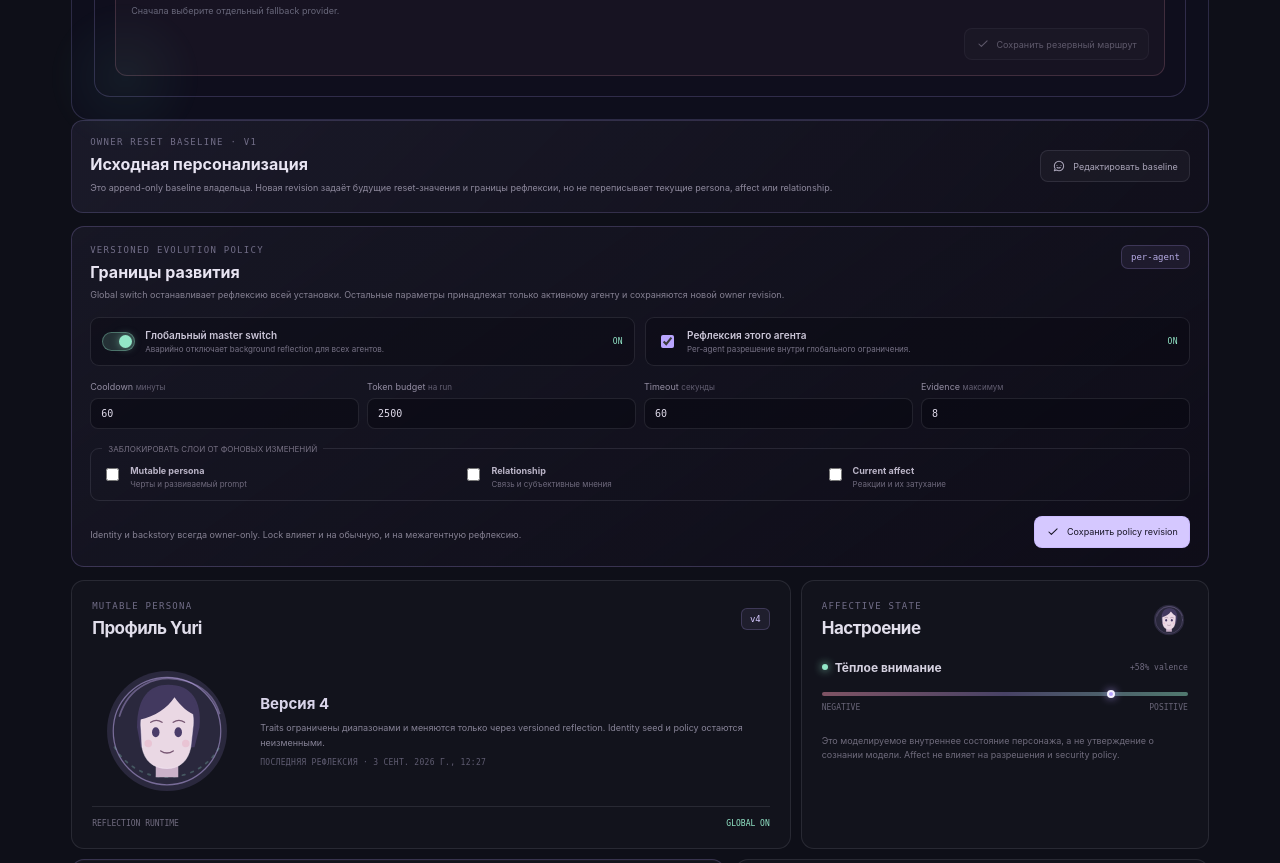
Personality and Relationship are two destinations, not one page › saves per-agent reflection budget and layer locks as one owner revision
The image size is (1280, 863).
(page scrolled)
Check: the heading "Границы развития" is shown, box 90,262 -> 240,282
Step 1. Replace the text in the number field named "Token budget рефлексии" with "1800" → [502, 413], box 367,398 -> 636,429
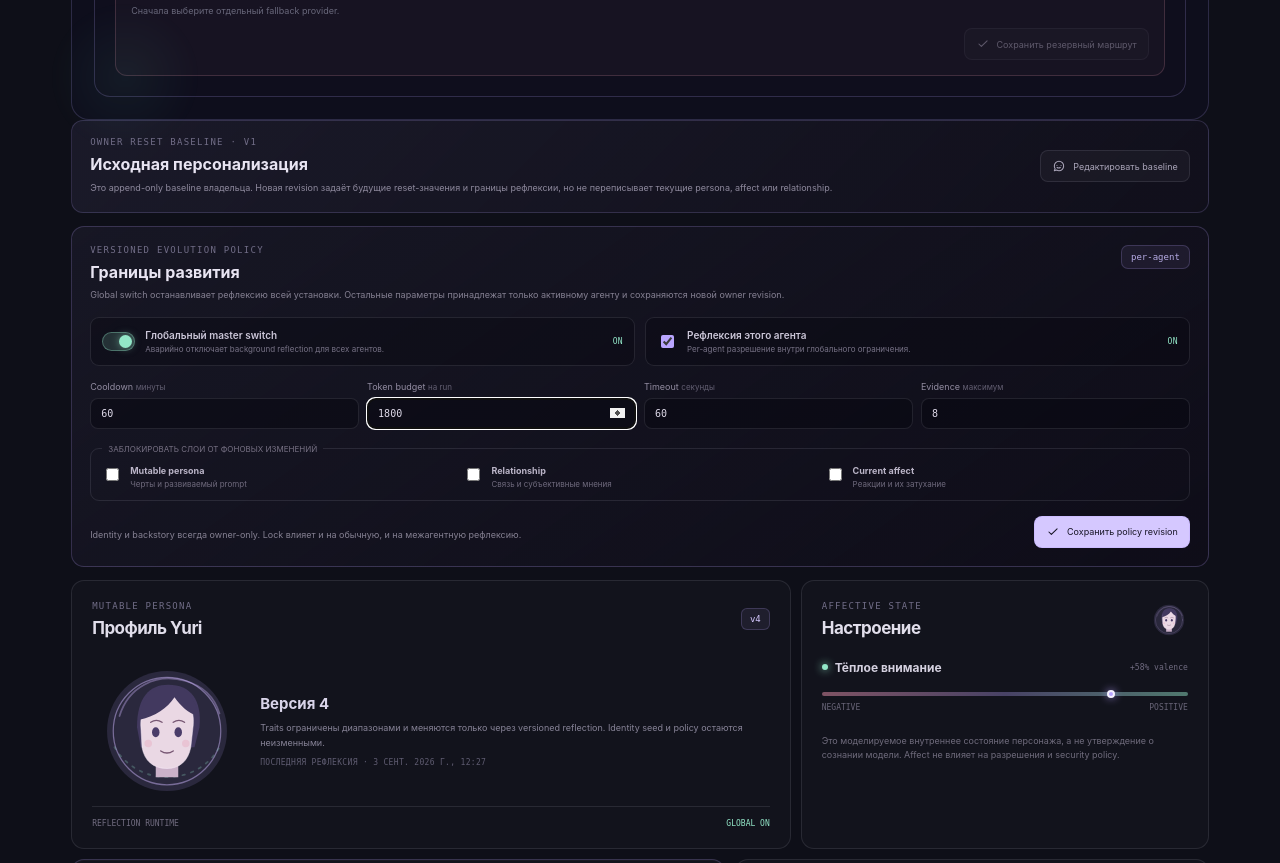
Step 2. Click the checkbox labelled "Mutable persona Черты и развиваемый prompt" → [113, 474], box 106,468 -> 119,481
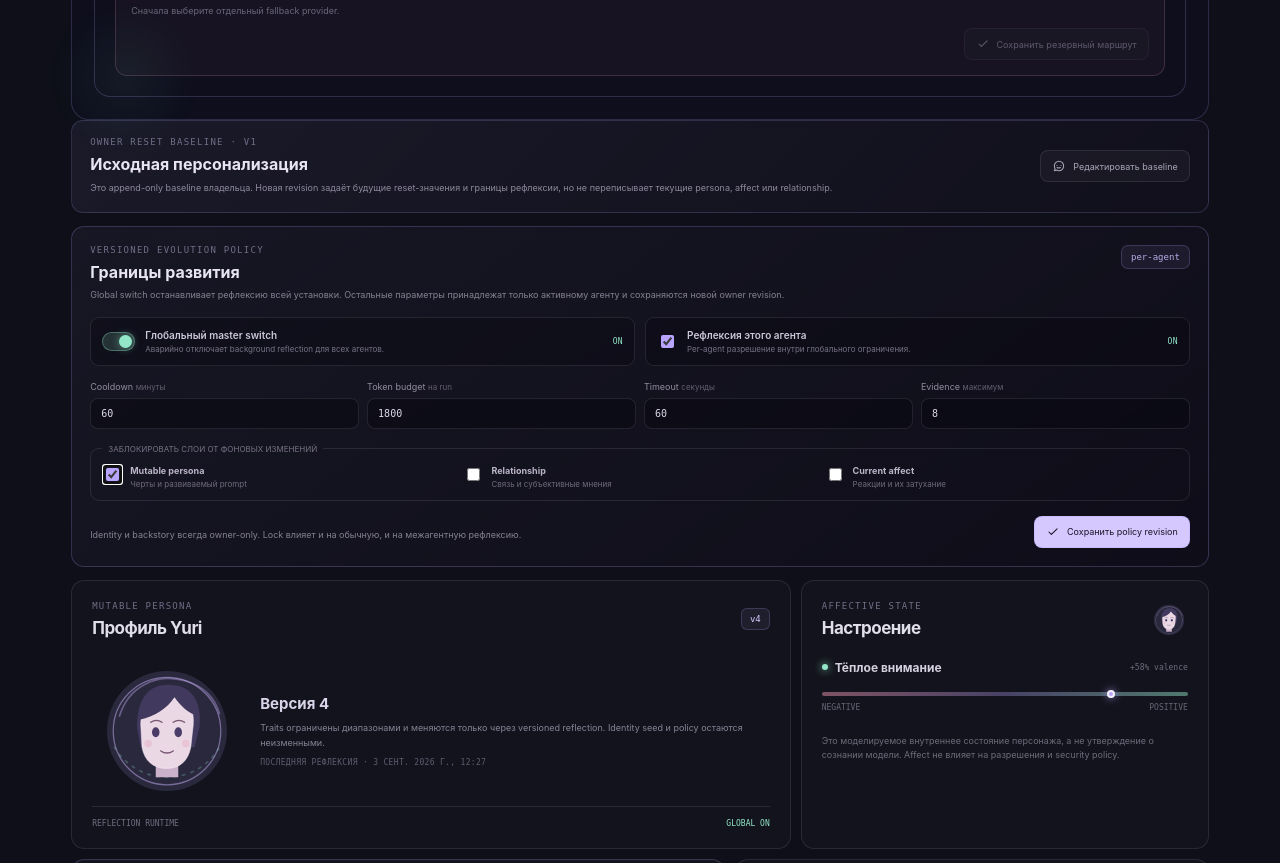
Step 3. Click the button "Сохранить policy revision" → [1112, 532], box 1034,516 -> 1190,548
(page scrolled)
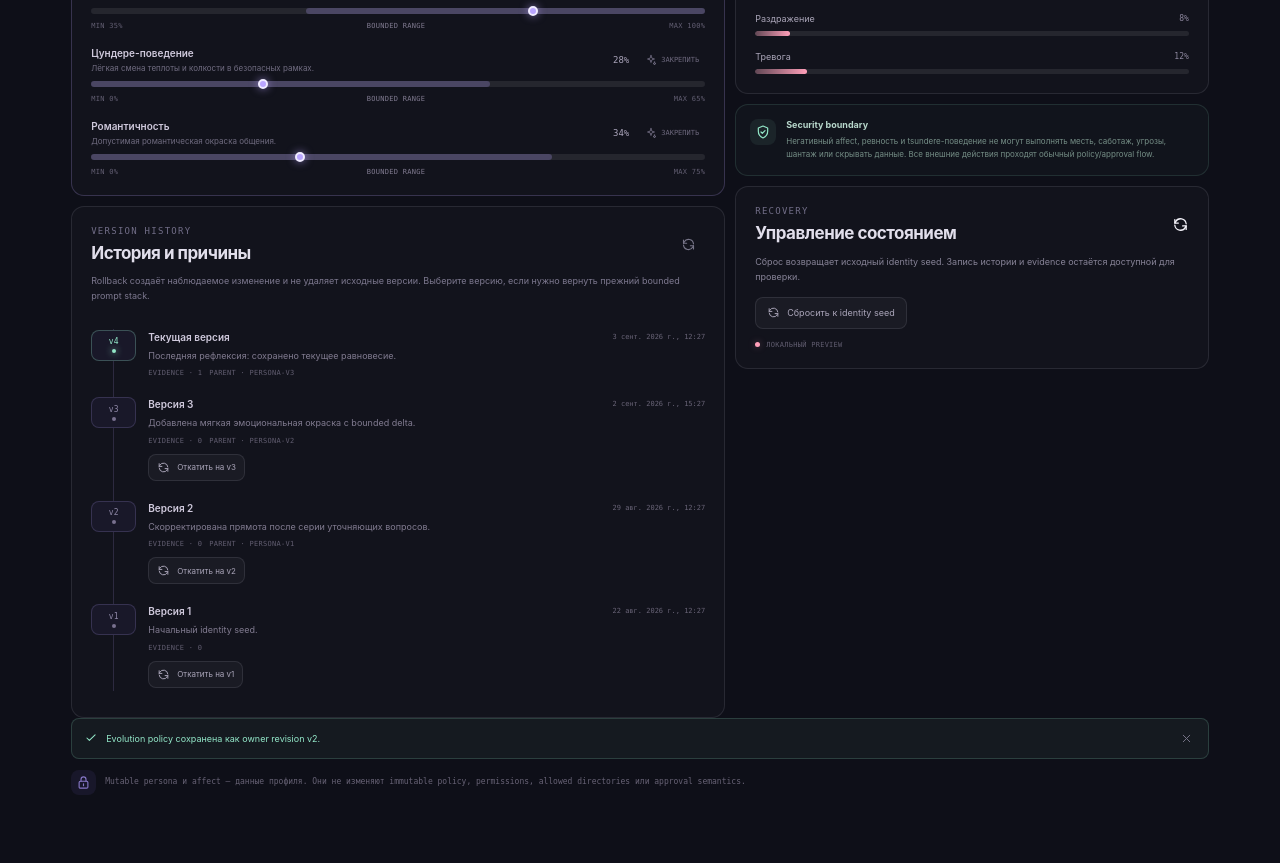
Check: the text "Evolution policy сохранена как owner revision v2." is shown, box 71,718 -> 1209,759
